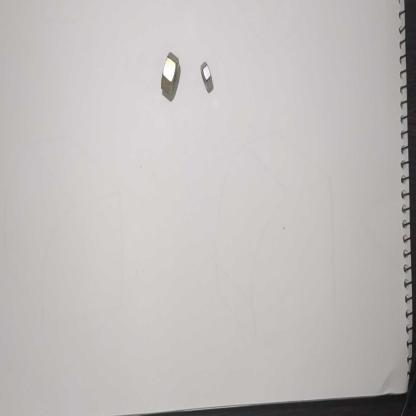NUTS: (157, 34, 184, 118), (196, 54, 227, 110)
